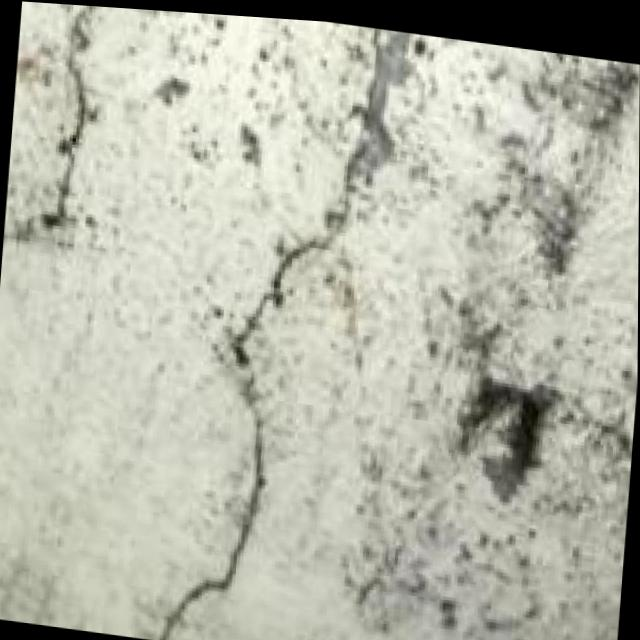Crack: (132, 7, 448, 640), (8, 1, 135, 268)
